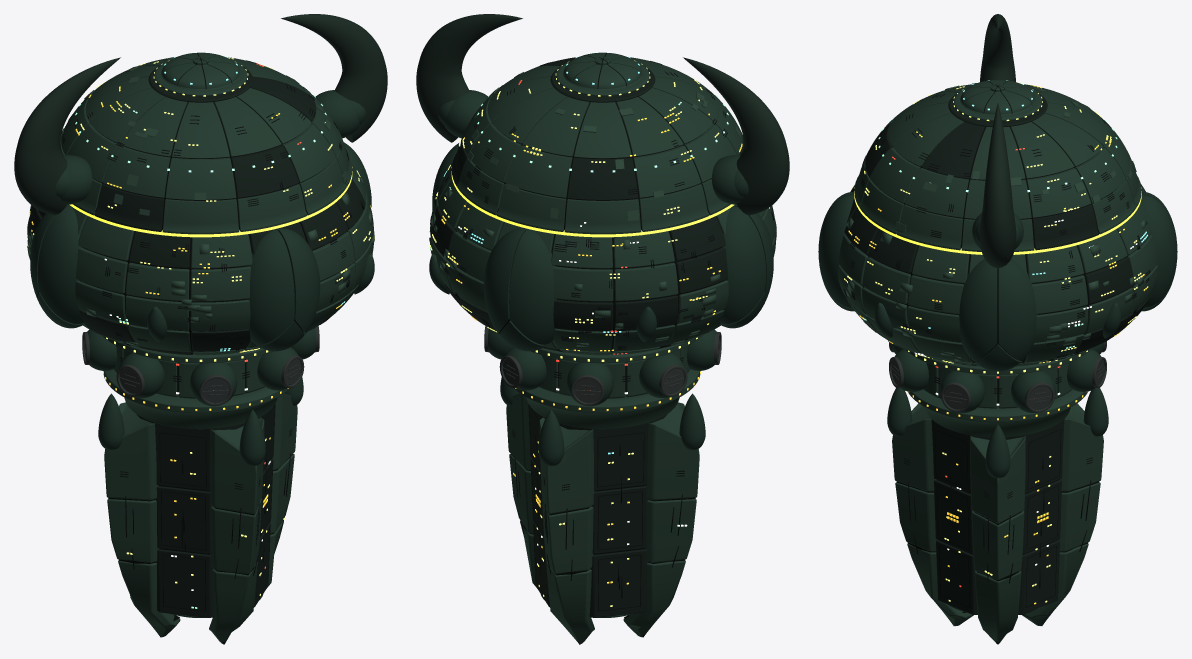
Rendered from goruba.glb.
3 renders of one model, left to right at view 1: azimuth 30°, elevation 25°; view 2: azimuth 150°, elevation 25°; view 3: azimuth 270°, elevation 25°, orthographic. The views are drawn at different scales.
Parts seen in each view (by area): view 1: Dome, Drum, Legs, Core, Lobes, Horn_R, Horn_L, Gun_Balls, Hip, Beaks, Bridge_Cap, GunBelt (+16 smaller); view 2: Dome, Drum, Legs, Core, Lobes, Horn_R, Horn_L, Gun_Balls, Hip, Beaks, Bridge_Cap, GunBelt (+16 smaller); view 3: Dome, Drum, Legs, Core, Lobes, Gun_Balls, Horn_L, Hip, Beaks, Bridge_Cap, GunBelt, Horn_R (+14 smaller).
Boxes of the visible parts, x1,y1,x2,y2 form: Dome: (59,57,352,234); Drum: (27,163,374,355); Legs: (104,393,297,644); Core: (136,404,275,617); Lobes: (30,142,371,351); Horn_R: (14,57,120,215); Horn_L: (281,14,387,142); Gun_Balls: (83,328,315,406); Hip: (103,369,290,429); Beaks: (98,377,303,466); Bridge_Cap: (161,52,240,90); GunBelt: (113,346,264,398); Dome: (451,57,744,234); Drum: (429,163,776,355); Legs: (506,393,699,644); Core: (528,404,667,617); Lobes: (432,143,773,351); Horn_R: (683,57,789,215); Horn_L: (416,14,522,142); Gun_Balls: (488,328,720,406); Hip: (513,369,700,429); Beaks: (500,377,705,466); Bridge_Cap: (563,52,642,90); GunBelt: (539,346,690,398); Dome: (854,84,1141,251); Drum: (838,185,1157,366); Legs: (892,403,1103,643); Core: (931,419,1064,614); Lobes: (818,192,1177,371); Gun_Balls: (891,343,1104,412); Horn_L: (979,103,1016,267); Hip: (907,389,1088,437); Beaks: (887,388,1108,477); Bridge_Cap: (960,80,1035,115); GunBelt: (923,362,1072,408); Horn_R: (980,14,1015,81).
Bounding box in the file's own units: 8.14 × 12.4 × 7.2.
